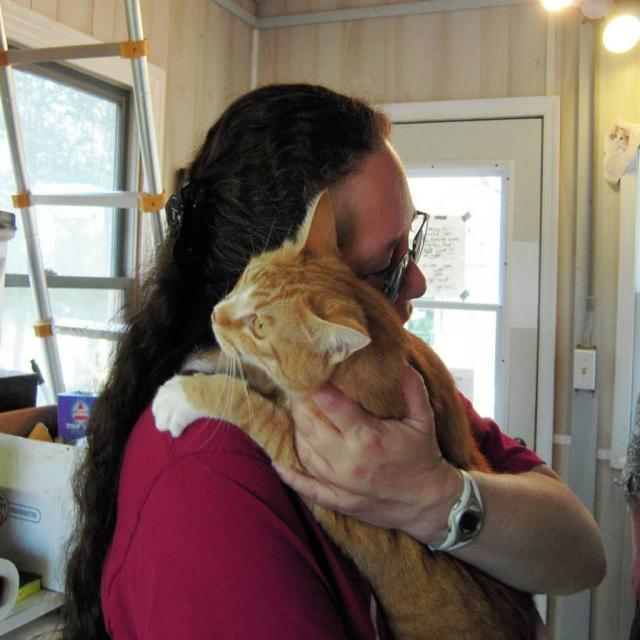Cat: (149, 188, 546, 638)
